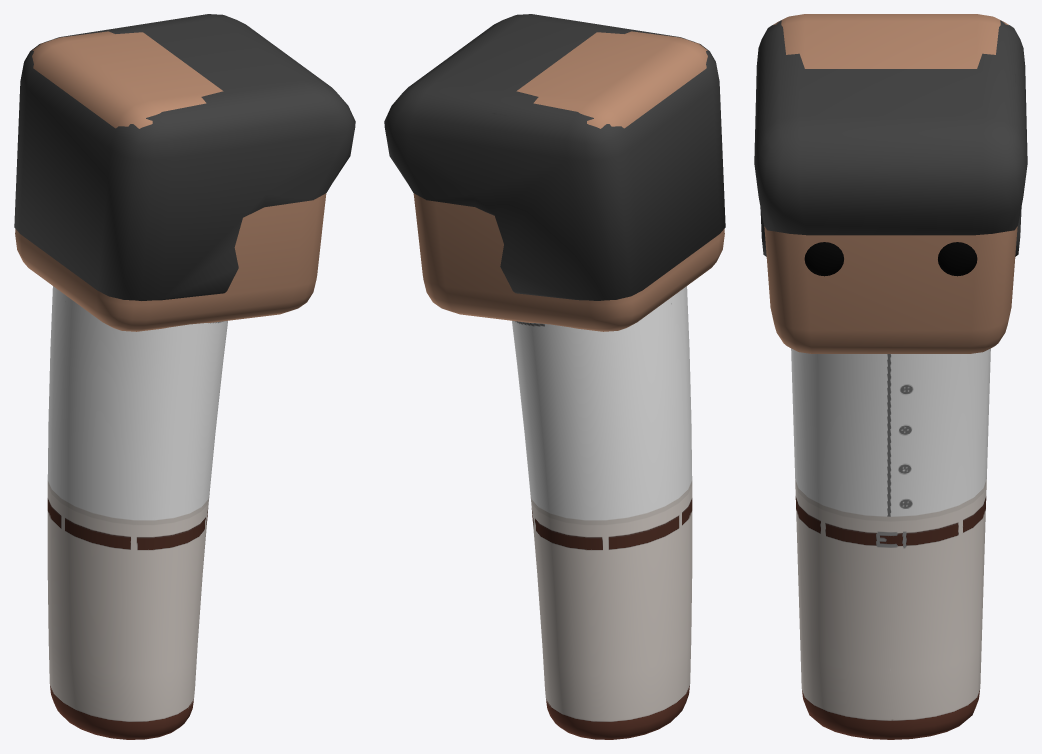
Rendered from Older.FBX.
3 renders of one model, left to right at view 1: azimuth 30°, elevation 25°; view 2: azimuth 150°, elevation 25°; view 3: azimuth 270°, elevation 25°, orthographic. The views are drawn at different scales.
Visible parts, largest first — view 1: Teen003; view 2: Teen003; view 3: Teen003.
Part boxes in pixels (box(x1,y1,x2,y2)): Teen003: box(14, 14, 355, 739); Teen003: box(384, 14, 725, 739); Teen003: box(754, 14, 1027, 739).
Size of the model in its own units: 68.61 by 171 by 61.66.
